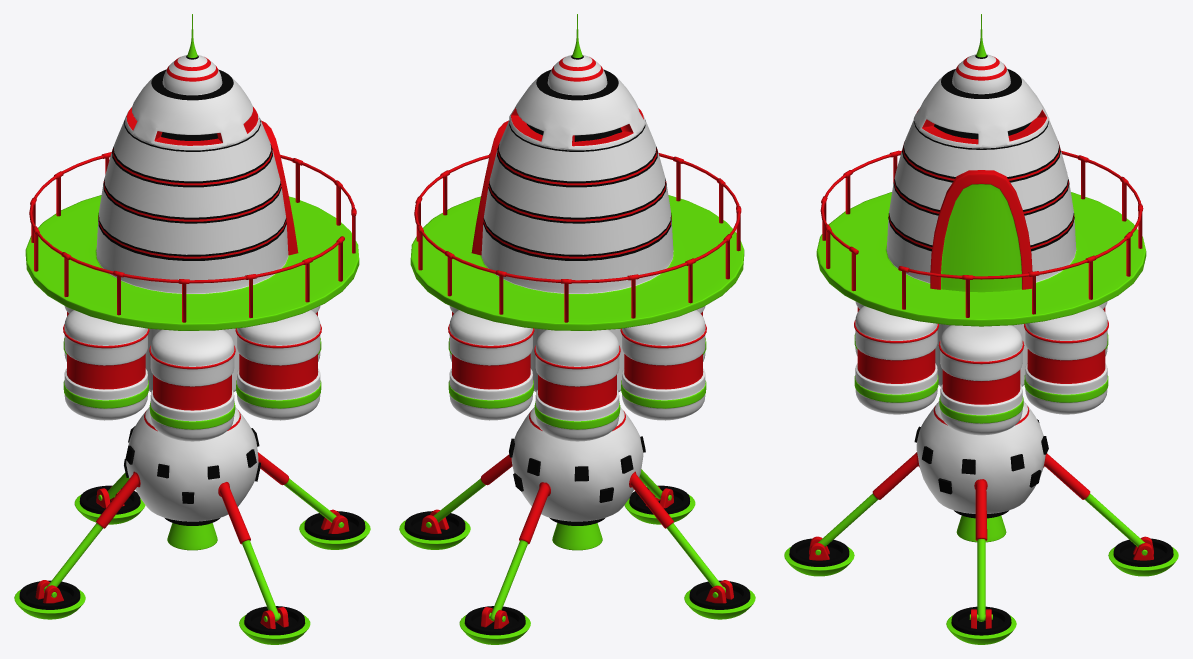
The model's file is rovey_lander.fbx.
3 renders of one model, left to right at view 1: azimuth 30°, elevation 25°; view 2: azimuth 150°, elevation 25°; view 3: azimuth 270°, elevation 25°, orthographic.
Visible parts, largest first — view 1: hull, tanks, foot, railing.001, railing, door; view 2: hull, tanks, foot, railing.001, railing, door; view 3: hull, tanks, door, foot, railing.001, railing.
Boxes of the visible parts, left/top/right/bottom form: hull: left=25, top=14, right=359, bottom=550; tanks: left=63, top=306, right=321, bottom=441; foot: left=14, top=452, right=370, bottom=644; railing.001: left=30, top=152, right=356, bottom=322; railing: left=29, top=154, right=354, bottom=283; door: left=261, top=120, right=298, bottom=255; hull: left=410, top=14, right=744, bottom=550; tanks: left=448, top=306, right=706, bottom=441; foot: left=399, top=454, right=755, bottom=644; railing.001: left=415, top=153, right=741, bottom=322; railing: left=414, top=153, right=740, bottom=283; door: left=471, top=120, right=508, bottom=255; hull: left=816, top=14, right=1146, bottom=542; tanks: left=854, top=301, right=1108, bottom=435; door: left=930, top=170, right=1032, bottom=292; foot: left=784, top=452, right=1178, bottom=644; railing.001: left=821, top=150, right=1143, bottom=317; railing: left=820, top=150, right=1142, bottom=279.
Bounding box in the file's own units: 769 × 1196 × 769.
